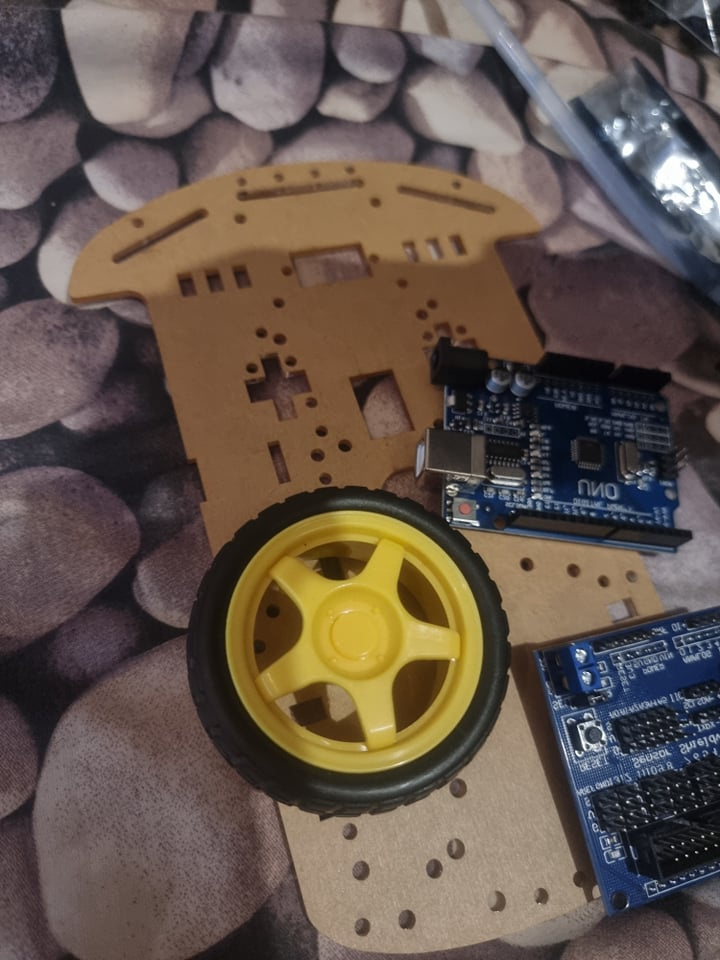5V EXPANSION: (525, 604, 719, 923)
UNO R3: (421, 342, 692, 556)
